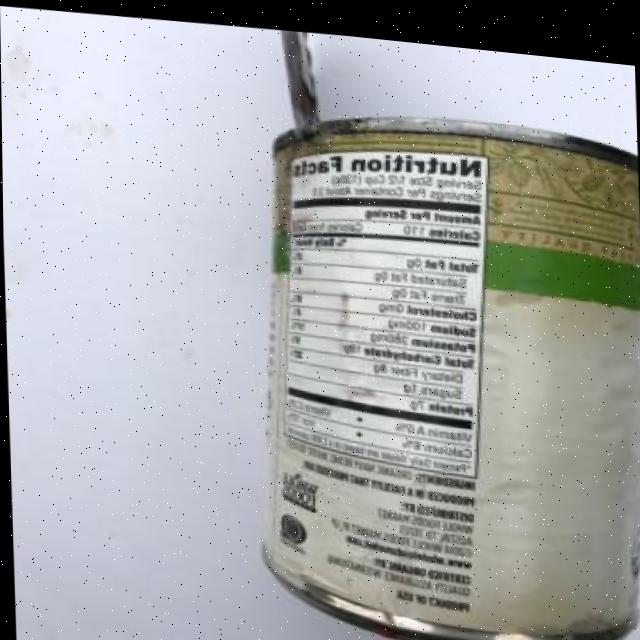metal: (243, 20, 640, 640)
